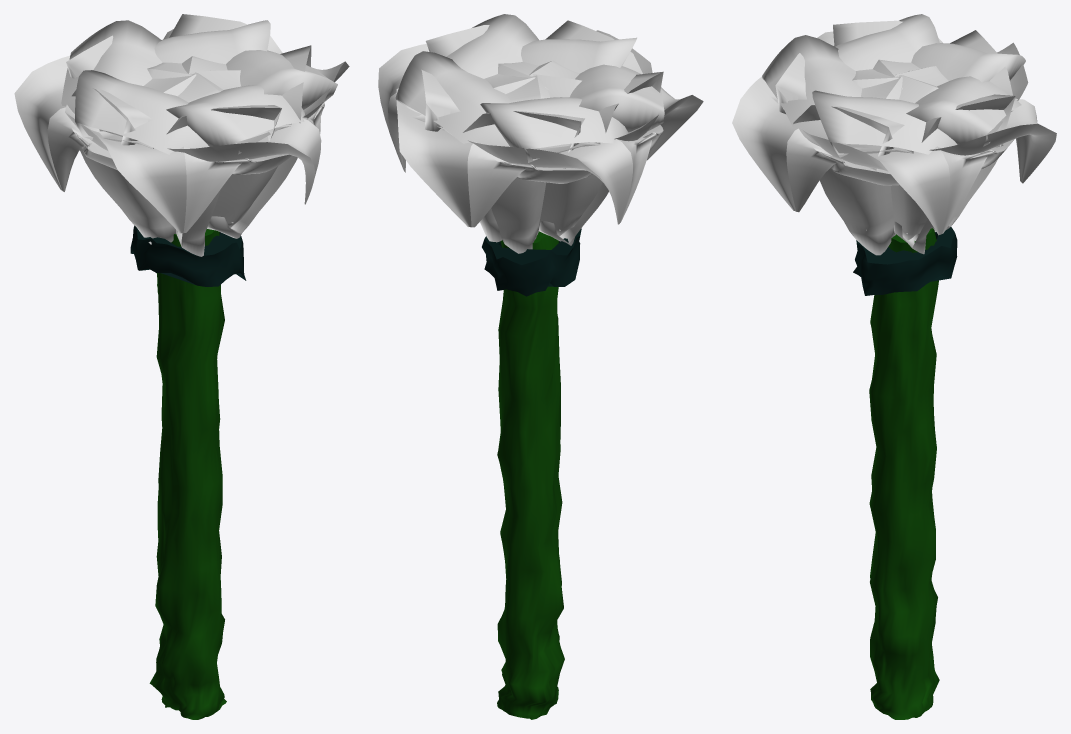
File: flower_tree_resized 1.FBX
3 views of the same model, side by side, from view 1: azimuth 30°, elevation 25°; view 2: azimuth 150°, elevation 25°; view 3: azimuth 270°, elevation 25° (orthographic).
Visible parts, largest first — view 1: Stem, petal002, petal003, petal001, petal004, petal, Donut001; view 2: Stem, petal, petal001, petal002, petal004, petal003, Donut001; view 3: Stem, petal004, petal003, petal, petal001, petal002, Donut001.
Boxes of the visible parts, x1,y1,x2,y2 form: Stem: (149, 229, 226, 719); petal002: (61, 20, 311, 244); petal003: (75, 14, 324, 256); petal001: (14, 20, 281, 191); petal004: (66, 35, 349, 238); petal: (72, 29, 337, 145); Donut001: (130, 225, 246, 286); Stem: (497, 231, 564, 719); petal: (396, 14, 663, 242); petal001: (395, 20, 663, 253); petal002: (425, 25, 703, 245); petal004: (378, 37, 636, 172); petal003: (421, 30, 664, 132); Donut001: (482, 228, 581, 296); Stem: (869, 228, 939, 719); petal004: (762, 30, 1014, 255); petal003: (732, 14, 1015, 240); petal: (812, 20, 1056, 254); petal001: (775, 42, 1028, 231); petal002: (793, 31, 1025, 230); Donut001: (853, 227, 957, 295).
Bounding box in the file's own units: 0.0659 × 0.0667 × 0.1456.
